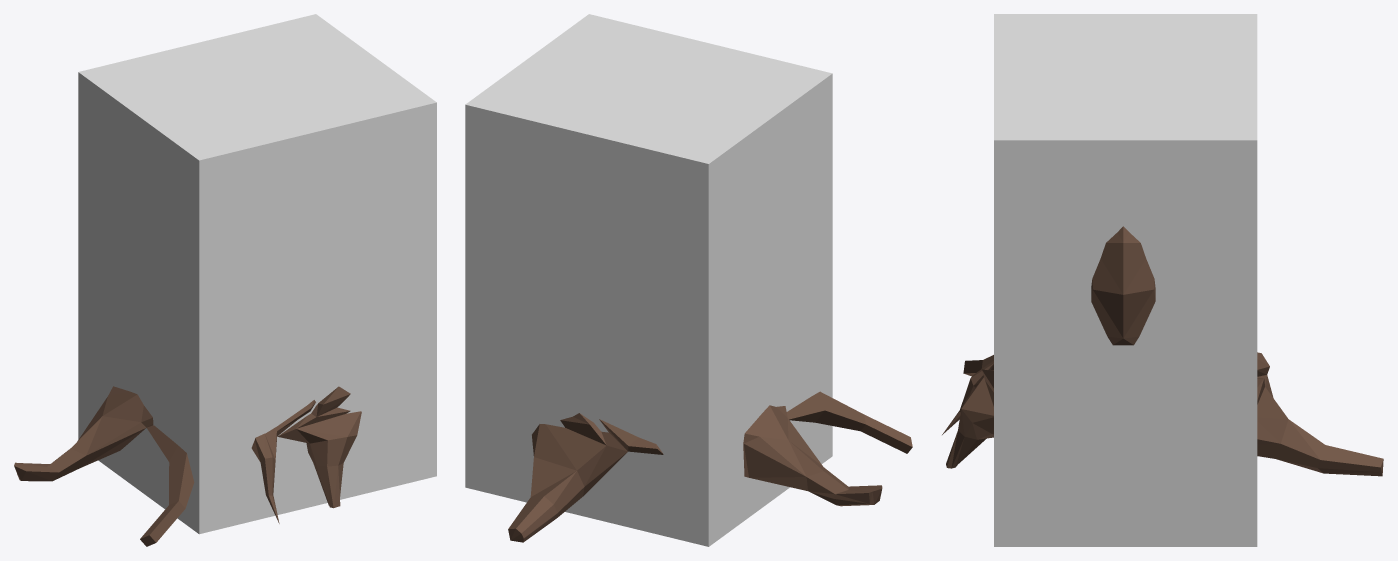
File: stump_sphere.glb
3 renders of one model, left to right at view 1: azimuth 30°, elevation 25°; view 2: azimuth 150°, elevation 25°; view 3: azimuth 270°, elevation 25°, orthographic. The views are drawn at different scales.
Parts seen in each view (by area): view 1: Cube, stump_5; view 2: Cube, stump_5; view 3: Cube, stump_5.
Part boxes in pixels (x1,y1,x2,y2): Cube: [78, 14, 436, 534]; stump_5: [14, 386, 361, 546]; Cube: [465, 14, 832, 546]; stump_5: [508, 391, 912, 542]; Cube: [994, 14, 1257, 546]; stump_5: [942, 226, 1383, 476].
Bounding box in the file's own units: 2.18 × 2.1 × 2.07.
Materials: 1 (1 with a texture image).
